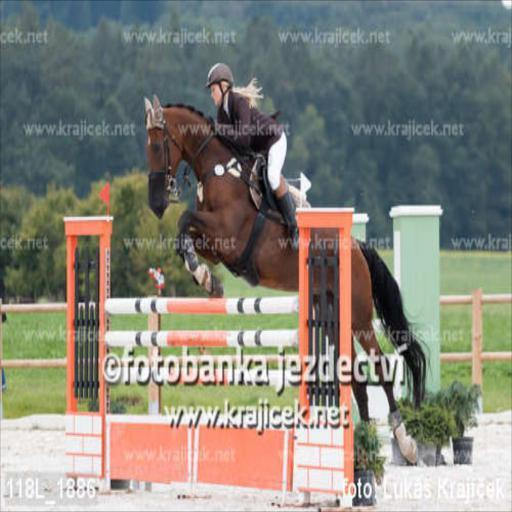horse: (144, 92, 432, 466)
